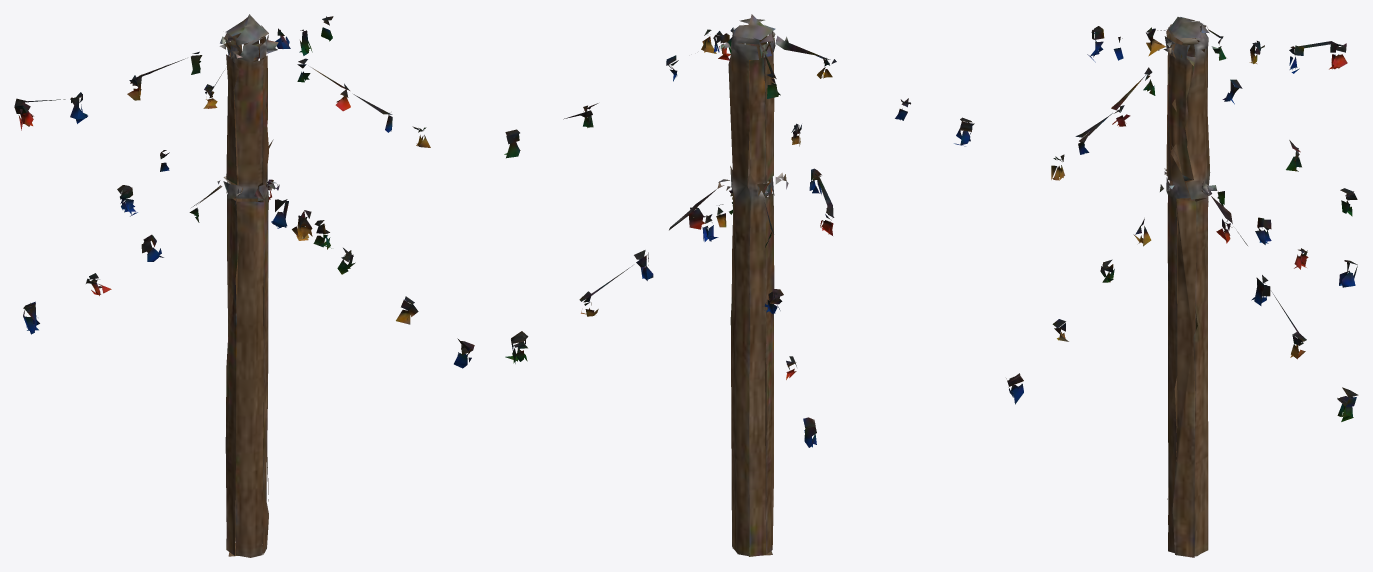
File: jahrmarkt_lichtermast.glb
The picture shows the model from 3 angles, left to right: view 1: azimuth 30°, elevation 25°; view 2: azimuth 150°, elevation 25°; view 3: azimuth 270°, elevation 25°; orthographic projection.
Parts seen in each view (by area): view 1: Prop; view 2: Prop; view 3: Prop.
Boxes of the visible parts, box(x1,y1,x2,y2) form: Prop: box(14, 14, 474, 557); Prop: box(504, 14, 974, 556); Prop: box(1006, 17, 1358, 557).
Bounding box in the file's own units: 0.6696 × 0.9994 × 0.5966.
Materials: 1 (1 with a texture image).
